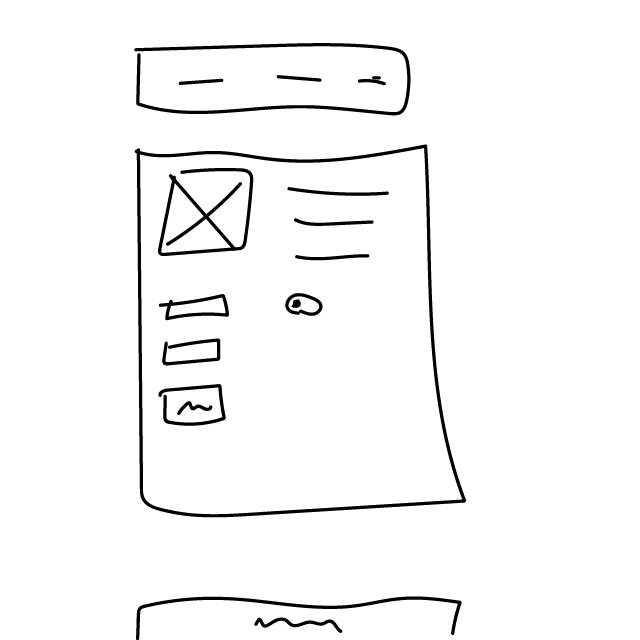button: (155, 384, 237, 428)
checkbox: (284, 291, 329, 320)
container: (120, 133, 495, 536)
footer: (128, 584, 466, 640)
frame: (154, 166, 258, 259)
input: (160, 292, 233, 323), (158, 338, 229, 366)
nav: (129, 44, 424, 119)
text: (282, 170, 400, 273)
